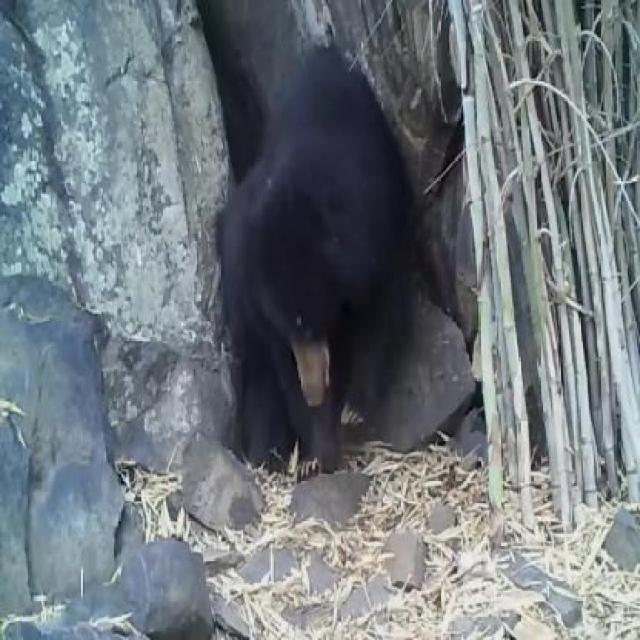Bear: (218, 33, 420, 469)
